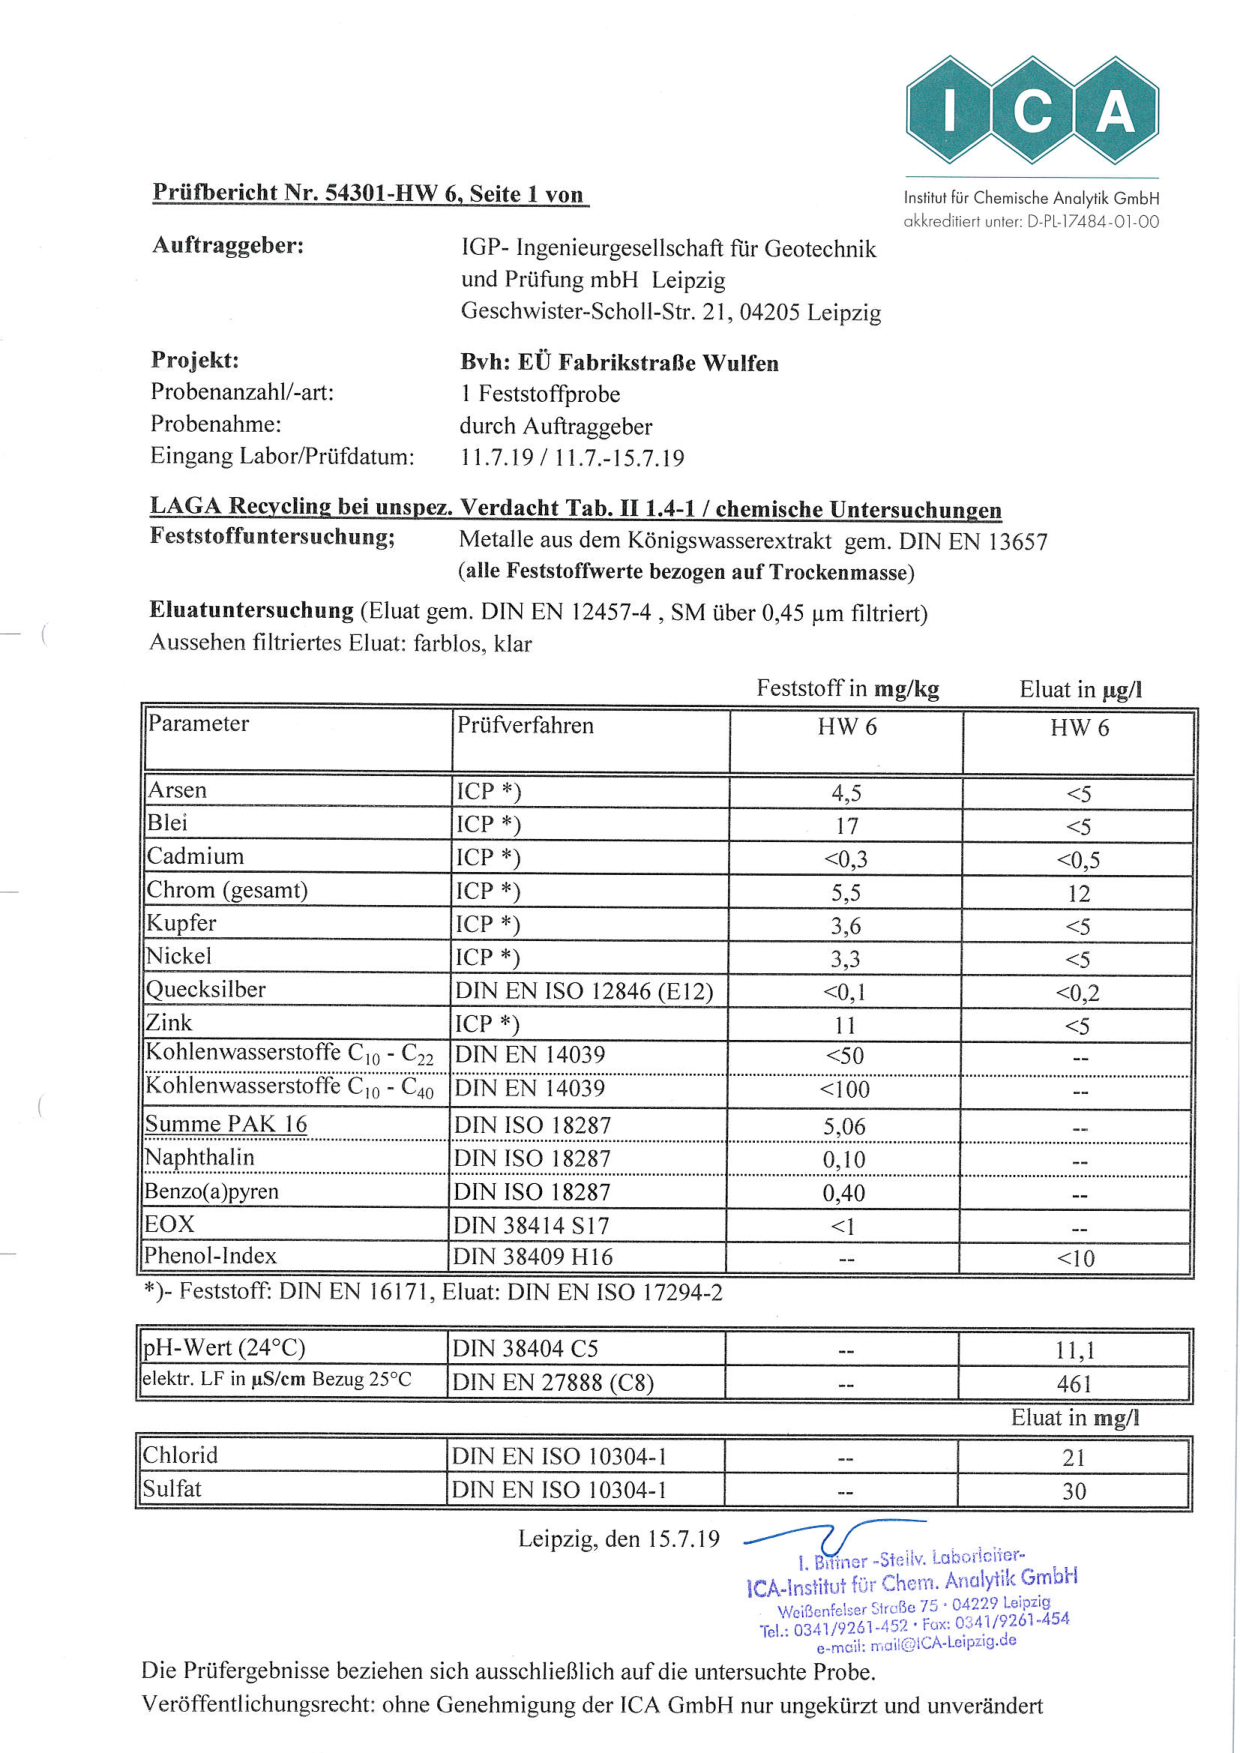table: (89, 671, 1210, 1281), (113, 1314, 1215, 1409), (119, 1430, 1210, 1519)
